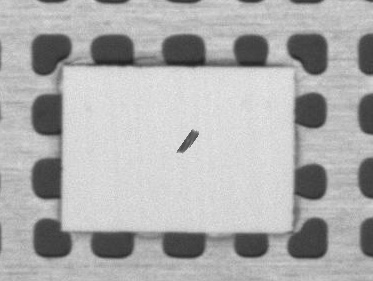DIE_INK: (231, 96, 267, 117)
